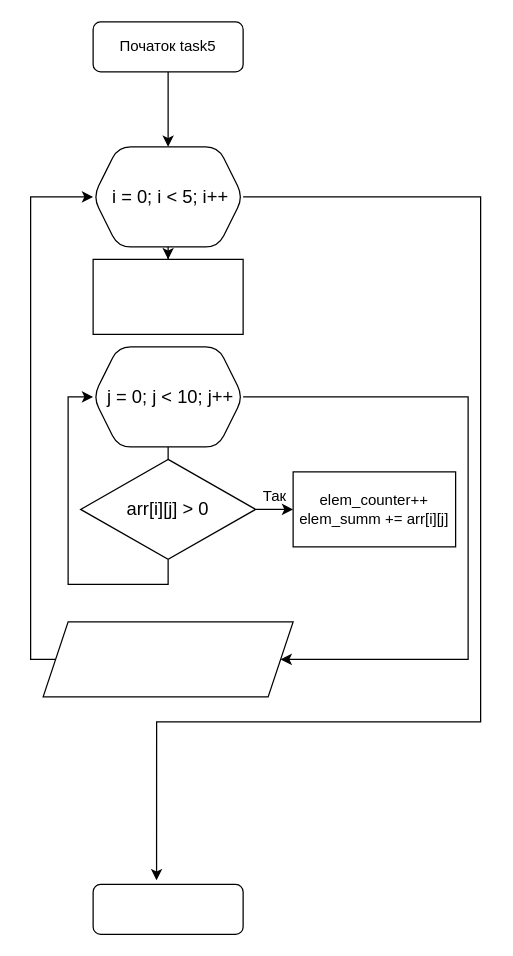
This 513x956 diagram has some shape labels left out. The box of each missing label's shape, as (x1, y1, x2, y2) in pixels:
elem_counter = 0 elem_summ = 0: (92, 258, 243, 334)
elem_summ / elem_counter: (42, 621, 293, 697)
Кінець task5: (92, 883, 243, 934)
